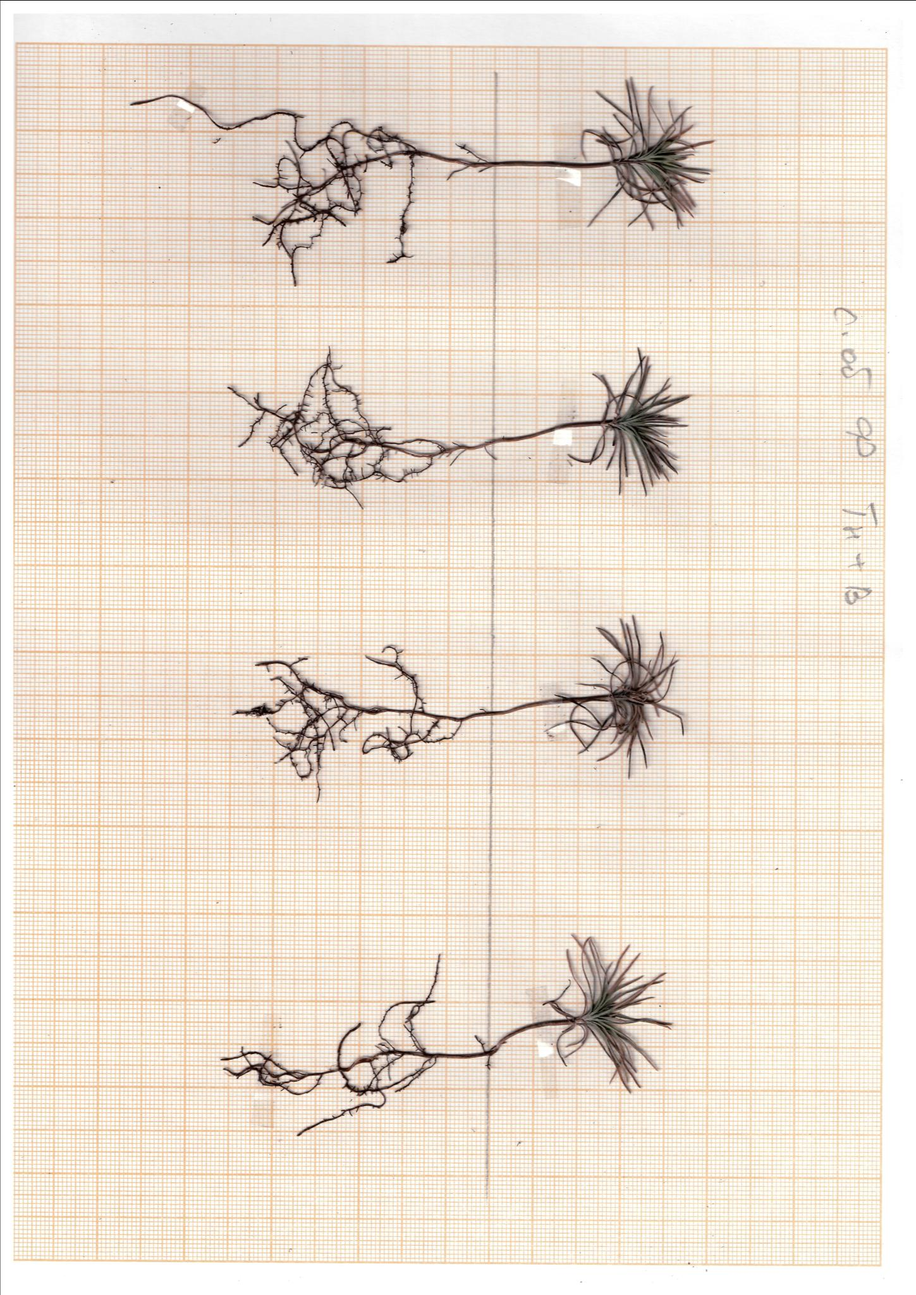cedr: (116, 75, 724, 289), (212, 925, 675, 1142), (229, 610, 689, 806), (214, 338, 698, 513)
